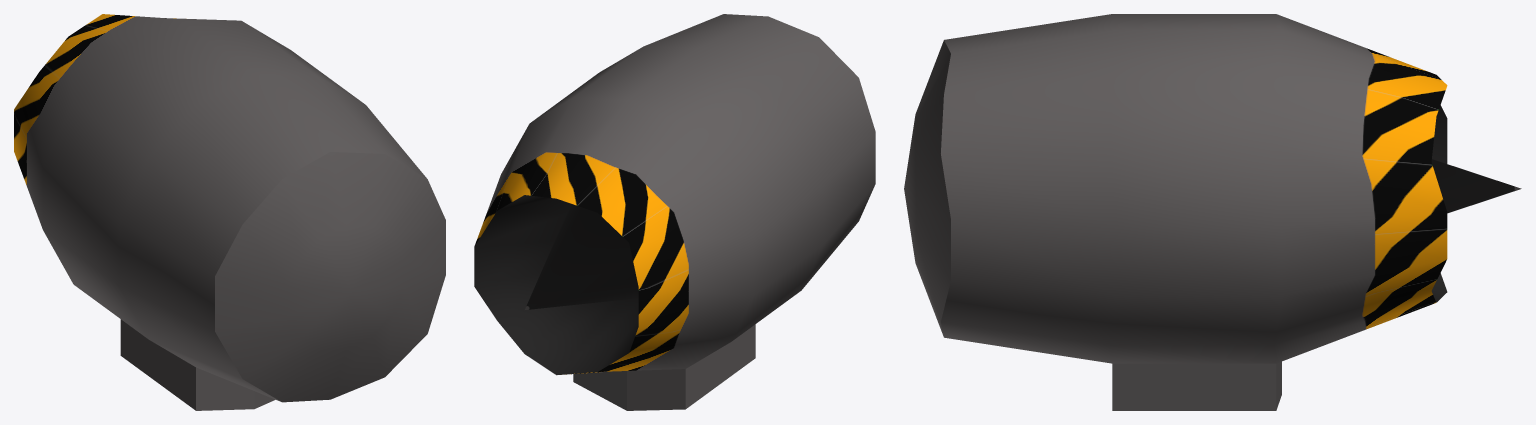
File: Thruster.FBX
3 views of the same model, side by side, from view 1: azimuth 30°, elevation 25°; view 2: azimuth 150°, elevation 25°; view 3: azimuth 270°, elevation 25° (orthographic). The views are drawn at different scales.
Parts seen in each view (by area): view 1: Cylinder010; view 2: Cylinder010; view 3: Cylinder010.
Part boxes in pixels (x1,y1,x2,y2): Cylinder010: (14,14,445,410); Cylinder010: (474,14,875,410); Cylinder010: (904,14,1521,410).
Size of the model in its own units: 6.87 by 8.1 by 12.45.
Materials: 1 (1 with a texture image).
